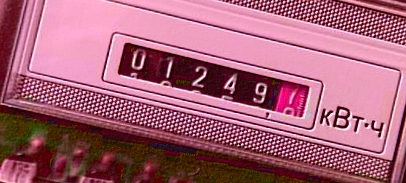0: (129, 45, 150, 73)
1: (160, 52, 178, 80)
2: (189, 63, 210, 91)
4: (222, 69, 241, 96)
7: (285, 79, 303, 107)
9: (249, 78, 270, 106)
screen: (97, 29, 329, 135)
